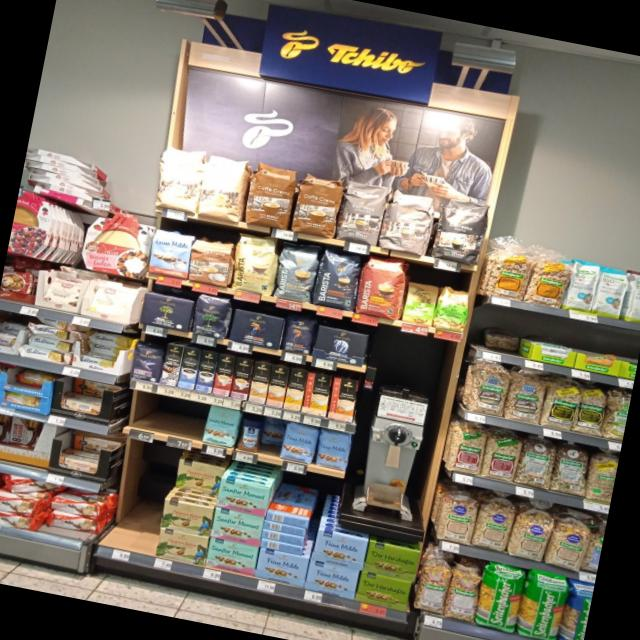AB Gemahlen: (312, 324, 368, 368)
Athiopien Bohne: (434, 286, 474, 333)
Athiopien Gemahlen: (402, 282, 441, 328)
BM Bohne: (190, 292, 232, 340)
BM Gemahlen: (138, 291, 195, 333)
Barista CB: (228, 231, 284, 296)
Barista CC: (272, 241, 322, 304)
Barista Espresso: (314, 246, 366, 311)
Barista Kolumbien: (355, 254, 410, 321)
C Fino Bohne: (128, 340, 166, 384)
CC Mild: (150, 142, 210, 215), (195, 152, 252, 222)
CC Vollmundig: (186, 236, 237, 288)
CC Vollmundig 36 Pads: (244, 159, 300, 231), (290, 171, 346, 239)
Colombia BB Gemahlen: (153, 526, 210, 566), (158, 498, 215, 537)
Espresso Aromatisch: (378, 188, 438, 256), (335, 177, 390, 248)
Espresso Kraftig: (432, 193, 492, 266)
FM 36 Pads: (147, 228, 196, 280)
FM Bohne: (278, 422, 320, 466), (314, 428, 354, 472)
FM Gemahlen: (312, 528, 368, 570), (254, 548, 310, 588), (306, 558, 358, 599)
FM Instant: (236, 417, 266, 455)
Herzhatfe Mundig: (364, 540, 422, 583), (356, 572, 413, 612)
LG Bohne: (280, 314, 318, 356)
LG Gemahlen: (229, 308, 286, 351)
SM Bohne: (200, 404, 242, 448)
SM Gemahlen: (214, 476, 272, 517), (204, 536, 260, 577), (210, 506, 266, 546)
Simo CCMild: (300, 372, 334, 418)
Simo CCMild bigpack: (284, 367, 308, 411)
Simo CCVollmundig: (326, 377, 360, 423)
Simo CCVollmundig bigpack: (264, 364, 290, 409)
Simo Decaff: (248, 360, 272, 404)
Simo Es Brazil: (212, 353, 238, 397)
Simo Es Caramel: (229, 356, 255, 402)
Simo Es Elegant: (160, 343, 184, 387)
Simo Es Kraft: (194, 350, 218, 394)
Simo Es Vanilla: (178, 346, 202, 390)
